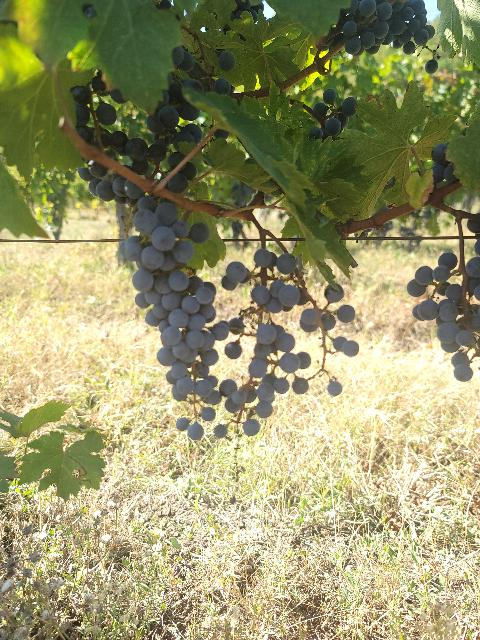grapes: (220, 252, 359, 419), (120, 195, 229, 402), (406, 252, 480, 381), (341, 0, 435, 56)
